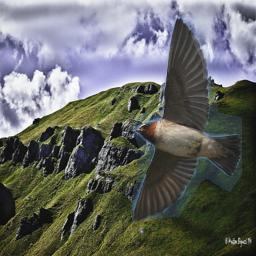Swallow: (132, 16, 242, 223)
